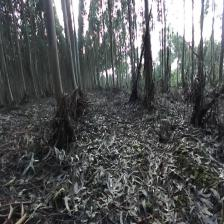trunk: (45, 4, 64, 104), (63, 18, 79, 96)
